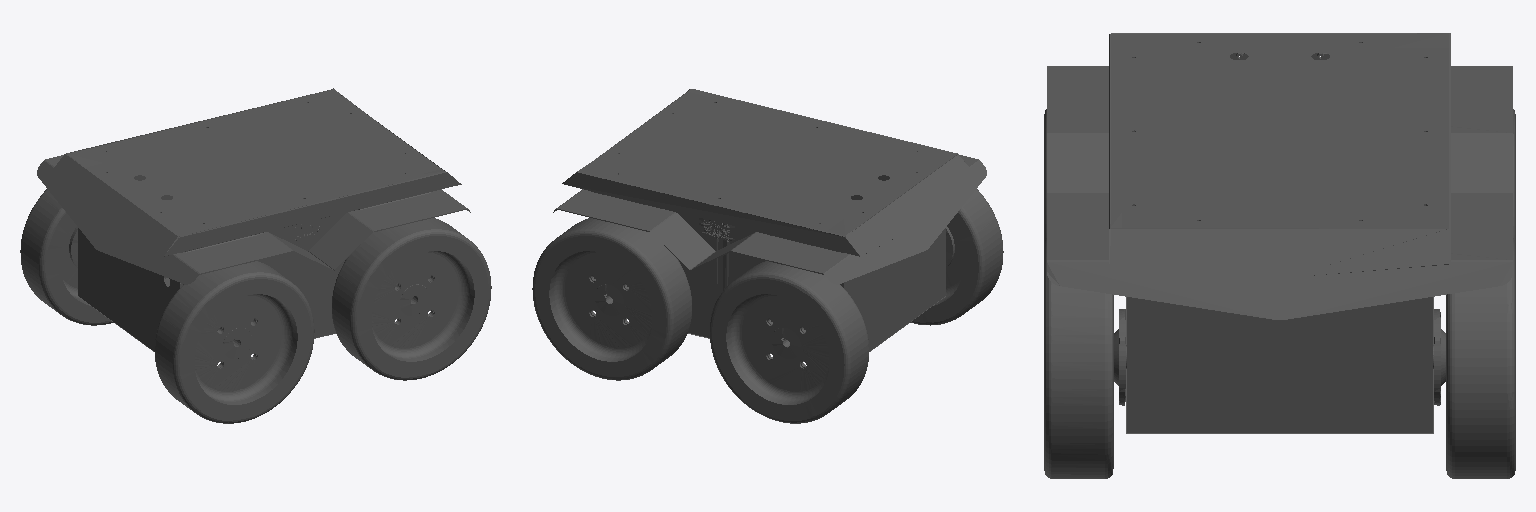
robot.urdf — yhs_chassis_description:
<?xml version="1.0" ?>
<robot name="yhs_chassis_description">

<!-- Init colour -->
<material name="black">
<color rgba="0.0 0.0 0.0 1.0"/>
</material>

<material name="dark">
<color rgba="0.3 0.3 0.3 1.0"/>
</material>

<material name="light_black">
<color rgba="0.4 0.4 0.4 1.0"/>
</material>

<material name="blue">
<color rgba="0.0 0.0 0.8 1.0"/>
</material>

<material name="green">
<color rgba="0.0 0.8 0.0 1.0"/>
</material>

<material name="grey">
<color rgba="0.5 0.5 0.5 1.0"/>
</material>

<material name="orange">
<color rgba="1.0 0.4235 0.0392 1.0"/>
</material>

<material name="brown">
<color rgba="0.8706 0.8118 0.7647 1.0"/>
</material>

<material name="red">
<color rgba="0.8 0.0 0.0 1.0"/>
</material>

<material name="white">
<color rgba="1.0 1.0 1.0 1.0"/>
</material>

<link name="base_footprint"/>

<joint name="base_joint" type="fixed">
	<parent link="base_footprint"/>
	<child link="base_link" />
    <origin xyz="0 0 0.010" rpy="0 0 0"/>
</joint>

<link name="base_link">
    <visual>
      <origin xyz="-0.064 0 0.0" rpy="0 0 0"/>
      <geometry>
        <mesh
          filename="package://yhs_chassis_description/meshes/DGT-001M.STL"/>
      </geometry>
		 <material name="light_black"/>
    </visual>
	<collision>
      <origin xyz="-0.064 0 0.047" rpy="0 0 0"/>
      <geometry>
        <box size="0.266 0.266 0.094"/>
      </geometry>
    </collision>
    
    <inertial>
      <origin xyz="0 0 0" rpy="0 0 0"/>
      <mass value="1.3729096e+00"/>
      <inertia ixx="8.7002718e-03" ixy="-4.7576583e-05" ixz="1.1160499e-04"
               iyy="8.6195418e-03" iyz="-3.5422299e-06"
               izz="1.4612727e-02" />
    </inertial>
</link>

  <joint name="wheel_left_joint" type="fixed">
    <parent link="base_link"/>
    <child link="wheel_left_link"/>
    <origin xyz="0.0 0.144 0.023" rpy="-1.57 0 0"/>
    <axis xyz="0 0 1"/>
  </joint>

  <link name="wheel_left_link">
    <visual>
      <origin xyz="0 0 0" rpy="1.57 0 0"/>
      <geometry>
        <mesh filename="package://yhs_chassis_description/meshes/wheels/left_tire.stl" scale="0.001 0.001 0.001"/>
      </geometry>
      <material name="dark"/>
    </visual>

    <collision>
      <origin xyz="0 0 0" rpy="0 0 0"/>
      <geometry>
        <cylinder length="0.018" radius="0.033"/>
      </geometry>
    </collision>

    <inertial>
      <origin xyz="0 0 0" />
      <mass value="2.8498940e-02" />
      <inertia ixx="1.1175580e-05" ixy="-4.2369783e-11" ixz="-5.9381719e-09"
               iyy="1.1192413e-05" iyz="-1.4400107e-11"
               izz="2.0712558e-05" />
      </inertial>
  </link>

  <joint name="wheel_right_joint" type="fixed">
    <parent link="base_link"/>
    <child link="wheel_right_link"/>
    <origin xyz="0.0 -0.144 0.023" rpy="-1.57 0 0"/>
    <axis xyz="0 0 1"/>
  </joint>

  <link name="wheel_right_link">
    <visual>
      <origin xyz="0 0 0" rpy="1.57 0 0"/>
      <geometry>
        <mesh filename="package://yhs_chassis_description/meshes/wheels/right_tire.stl" scale="0.001 0.001 0.001"/>
      </geometry>
      <material name="dark"/>
    </visual>

    <collision>
      <origin xyz="0 0 0" rpy="0 0 0"/>
      <geometry>
        <cylinder length="0.018" radius="0.033"/>
      </geometry>
    </collision>

    <inertial>
      <origin xyz="0 0 0" />
      <mass value="2.8498940e-02" />
      <inertia ixx="1.1175580e-05" ixy="-4.2369783e-11" ixz="-5.9381719e-09"
               iyy="1.1192413e-05" iyz="-1.4400107e-11"
               izz="2.0712558e-05" />
      </inertial>
  </link>

  <joint name="caster_back_right_joint" type="fixed">
    <parent link="base_link"/>
    <child link="caster_back_right_link"/>
    <origin xyz="-0.177 -0.064 -0.004" rpy="-1.57 0 0"/>
  </joint>

  <link name="caster_back_right_link">
    <collision>
      <origin xyz="0 0.001 0" rpy="0 0 0"/>
      <geometry>
        <box size="0.030 0.009 0.020"/>
      </geometry>
    </collision>

    <inertial>
      <origin xyz="0 0 0" />
      <mass value="0.005" />
      <inertia ixx="0.001" ixy="0.0" ixz="0.0"
               iyy="0.001" iyz="0.0"
               izz="0.001" />
    </inertial>
  </link>

  <joint name="caster_back_left_joint" type="fixed">
    <parent link="base_link"/>
    <child link="caster_back_left_link"/>
    <origin xyz="-0.177 0.064 -0.004" rpy="-1.57 0 0"/>
  </joint>

  <link name="caster_back_left_link">
    <collision>
      <origin xyz="0 0.001 0" rpy="0 0 0"/>
      <geometry>
        <mesh filename="package://yhs_chassis_description/meshes/wheels/left_tire.stl" scale="0.001 0.001 0.001"/>
      </geometry>
      <material name="dark"/>
    </collision>

    <inertial>
      <origin xyz="0 0 0" />
      <mass value="0.005" />
      <inertia ixx="0.001" ixy="0.0" ixz="0.0"
               iyy="0.001" iyz="0.0"
               izz="0.001" />
    </inertial>
  </link>
 <joint name="imu_joint" type="fixed">
    <parent link="base_link"/>
    <child link="imu_link"/>
    <origin xyz="0.0 0 0.068" rpy="0 0 0"/>
  </joint>

  <link name="imu_link"/>

  <joint name="scan_joint" type="fixed">
    <parent link="base_link"/>
    <child link="base_scan"/>
    <origin xyz="-0.064 0 0.122" rpy="0 0 0"/>
  </joint>

  <link name="base_scan">
    <visual>
      <origin xyz="0 0 0.0" rpy="0 0 0"/>
      <geometry>
        <mesh filename="package://yhs_chassis_description/meshes/VLP16_scan.stl" scale="0.003 0.003 0.003"/>
      </geometry>
      <material name="dark"/>
    </visual>

    <collision>
      <origin xyz="0.015 0 -0.0065" rpy="0 0 0"/>
      <geometry>
        <cylinder length="0.0315" radius="0.055"/>
      </geometry>
    </collision>

    <inertial>
      <mass value="0.114" />
      <origin xyz="0 0 0" />
      <inertia ixx="0.001" ixy="0.0" ixz="0.0"
               iyy="0.001" iyz="0.0"
               izz="0.001" />
    </inertial>
  </link>


<joint name="camera_joint" type="fixed">
    <origin xyz="0.064 -0.065 0.094" rpy="0 0 0"/>
    <parent link="base_link"/>
    <child link="camera_link"/>
  </joint>

<link name="camera_link">
    <visual>
     <origin xyz="0 0 0" rpy="1.57 0 1.57"/>
      <geometry>
       <mesh filename="package://turtlebot3_description/meshes/sensors/r200.dae" />
      </geometry>
    </visual>
    <collision>
      <origin xyz="0.003 0.065 0.007" rpy="0 0 0"/>
      <geometry>
        <box size="0.012 0.132 0.020"/>
      </geometry>
    </collision>

    <!-- This inertial field needs doesn't contain reliable data!! -->
<!--   <inertial>
      <mass value="0.564" />
      <origin xyz="0 0 0" />
      <inertia ixx="0.003881243" ixy="0.0" ixz="0.0"
               iyy="0.000498940" iyz="0.0"
               izz="0.003879257" />
    </inertial>-->
  </link>

  <joint name="camera_rgb_joint" type="fixed">
    <origin xyz="0.005 0.018 0.013" rpy="0 0 0"/>
    <!-- <origin xyz="${r200_cam_rgb_px} ${r200_cam_rgb_py} ${r200_cam_rgb_pz}" rpy="0 0 0"/> -->
    <parent link="camera_link"/>
    <child link="camera_rgb_frame"/>
  </joint>
  <link name="camera_rgb_frame"/>

  <joint name="camera_rgb_optical_joint" type="fixed">
    <origin xyz="0 0 0" rpy="-1.57 0 -1.57"/>
    <parent link="camera_rgb_frame"/>
    <child link="camera_rgb_optical_frame"/>
  </joint>
  <link name="camera_rgb_optical_frame"/>

  <joint name="camera_depth_joint" type="fixed">
    <origin xyz="0.005 0.028 0.013" rpy="-1.57 0 -1.57"/>
    <!-- <origin xyz="${r200_cam_rgb_px} ${r200_cam_rgb_py + r200_cam_depth_offset} ${r200_cam_rgb_pz}" rpy="0 0 0"/> --> 
    <parent link="camera_link"/>
    <child link="camera_depth_frame"/>
  </joint>
  <link name="camera_depth_frame"/>

  <joint name="camera_depth_optical_joint" type="fixed">
    <origin xyz="0 0 0" rpy="0 0 0"/>
    <parent link="camera_depth_frame"/>
    <child link="camera_depth_optical_frame"/>
  </joint>
  <link name="camera_depth_optical_frame"/>

</robot>

--- What the picture shows (computed from the rendered views, not written in the file) ---
The picture shows the robot from 3 angles, left to right: view 1: azimuth 30°, elevation 25°; view 2: azimuth 150°, elevation 25°; view 3: azimuth 270°, elevation 25°; orthographic projection.
Model yhs_chassis_description with 13 links and 12 joints (12 fixed), rooted at base_footprint, posed every joint at zero.
Visible links, largest first — view 1: base_link; view 2: base_link; view 3: base_link.
Link boxes in pixels (x1,y1,x2,y2): base_link: (20,88,491,423); base_link: (532,89,1003,423); base_link: (1044,33,1515,478).
Bounding box of the posed robot: 0.6781 × 0.58 × 0.3706 m (x, y, z).
1 mesh visuals loaded from 5 distinct referenced files (1 binary STL); not drawn: 4 (reference not matched to a file when rendering).